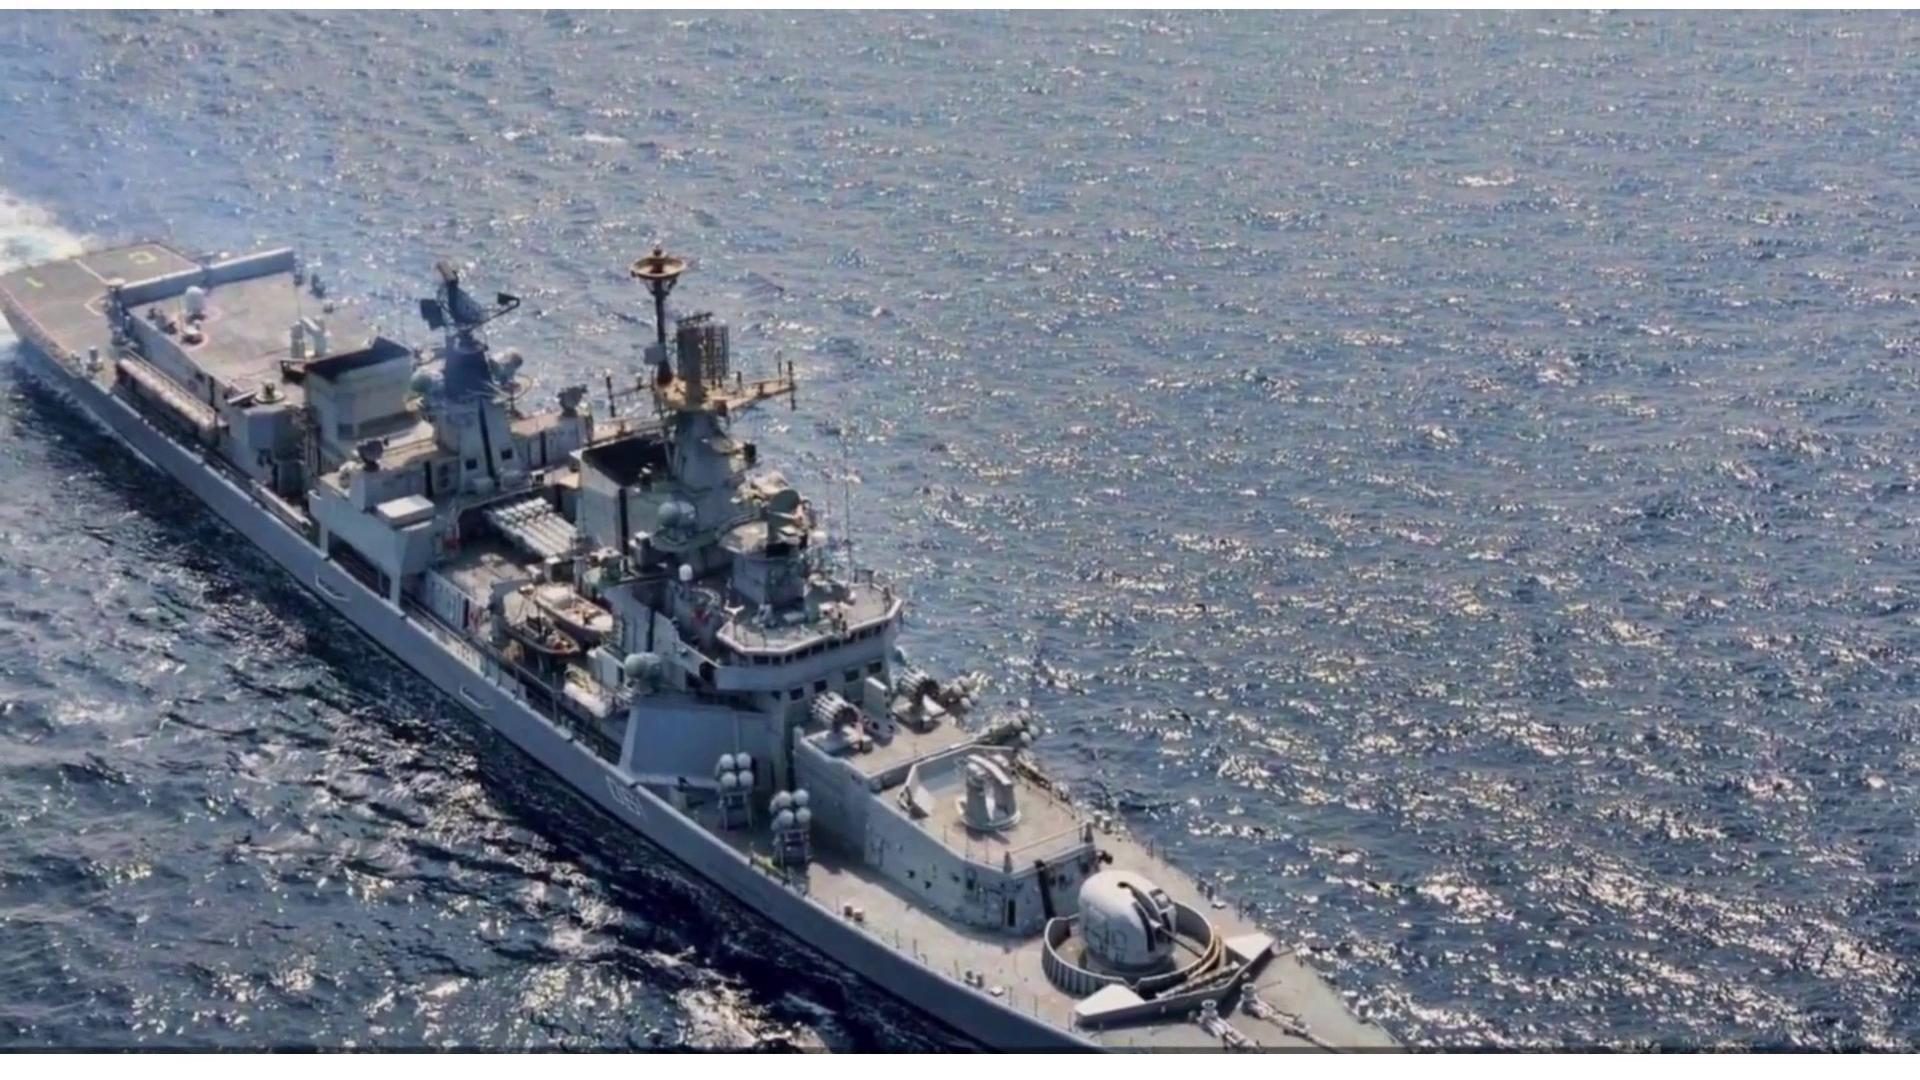OCR: (584, 760, 661, 830)
